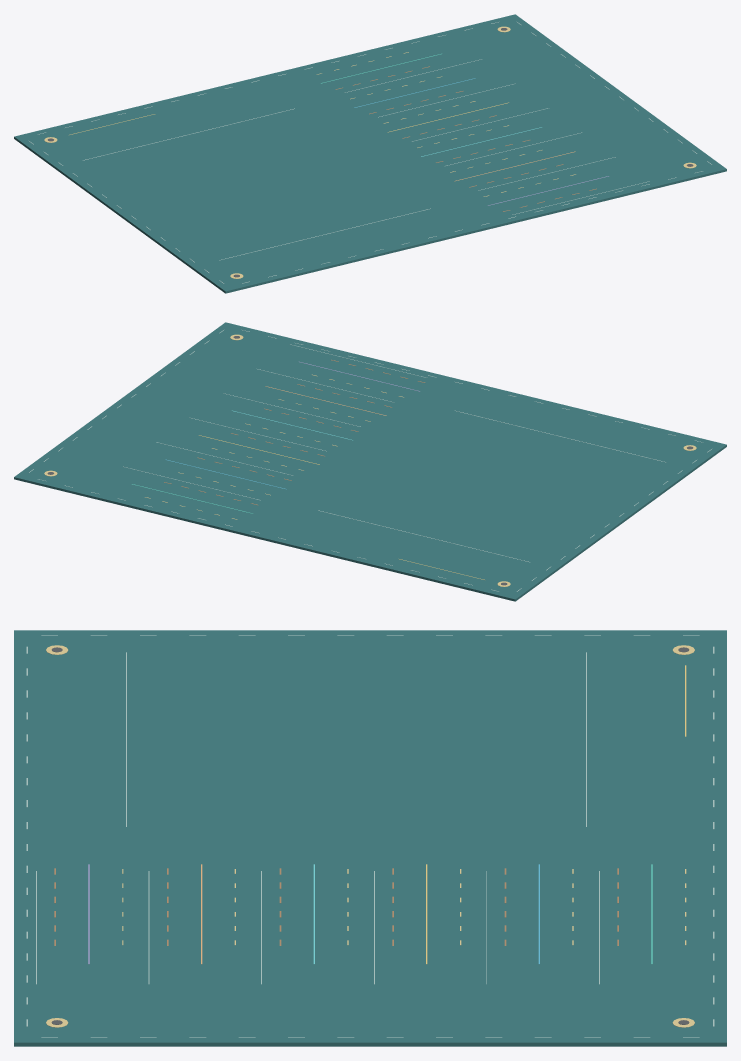
The model's file is 265_L120_PCB_Main.glb.
The picture shows the model from 3 angles, top to bottom: view 1: azimuth 30°, elevation 25°; view 2: azimuth 150°, elevation 25°; view 3: azimuth 270°, elevation 25°; orthographic projection. The views are drawn at different scales.
Parts seen in each view (by area): view 1: 0000__PSMAT__pcb_green; view 2: 0000__PSMAT__pcb_green; view 3: 0000__PSMAT__pcb_green.
Part boxes in pixels (bbox=[...]): 0000__PSMAT__pcb_green: bbox=[14, 14, 726, 293]; 0000__PSMAT__pcb_green: bbox=[14, 322, 726, 601]; 0000__PSMAT__pcb_green: bbox=[14, 630, 726, 1046].
Size of the model in its own units: 0.52 by 0.00249 by 0.38.
